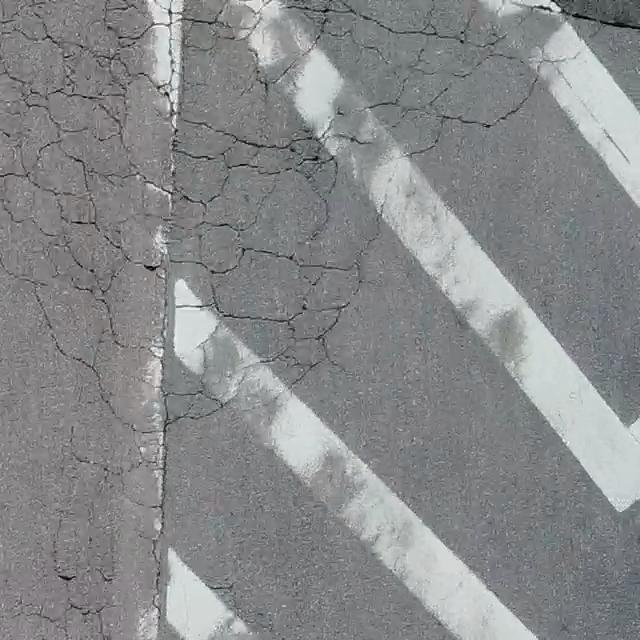GRIETA: (209, 584, 269, 626)
PIEL DE COCODRILO: (0, 0, 639, 639)
